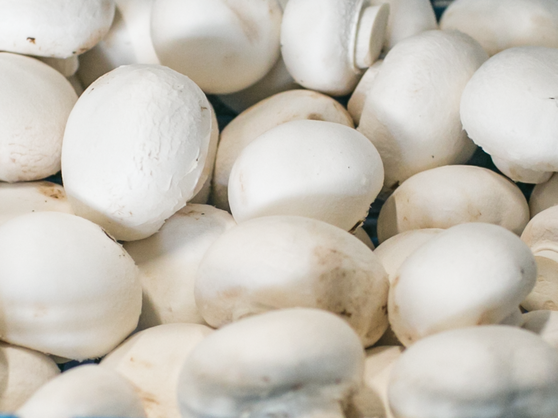champignon: (52, 62, 233, 236), (377, 222, 538, 345)
